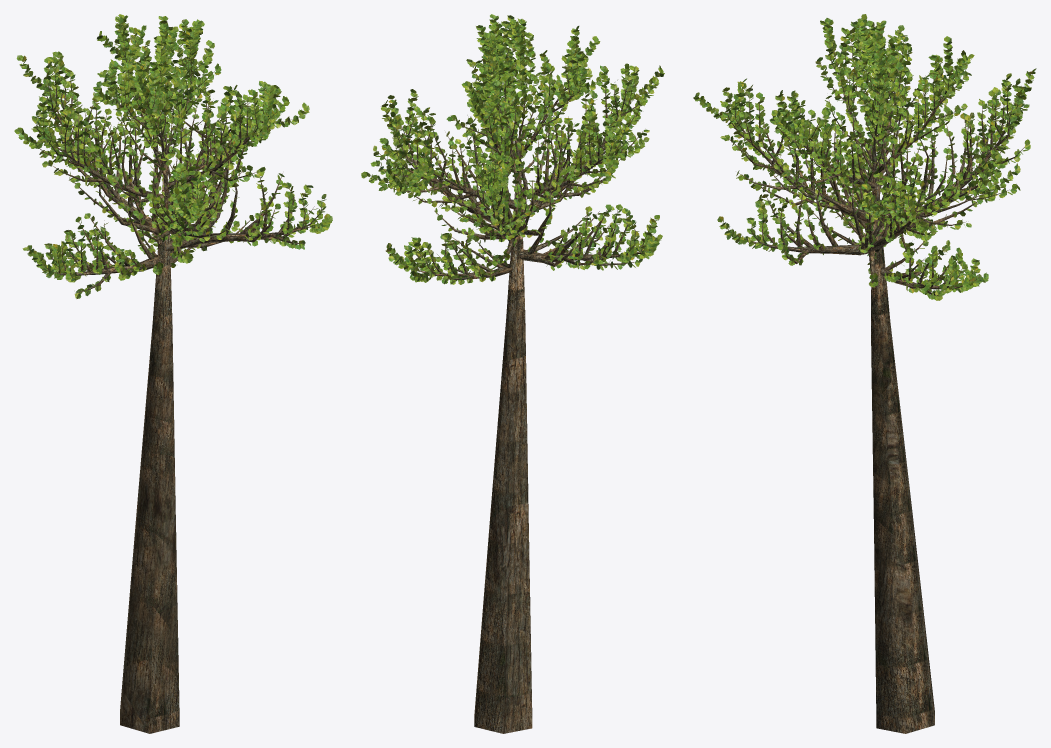
Rendered from tree.fbx.
3 views of the same model, side by side, from view 1: azimuth 30°, elevation 25°; view 2: azimuth 150°, elevation 25°; view 3: azimuth 270°, elevation 25° (orthographic). The views are drawn at different scales.
Visible parts, largest first — view 1: leaves, tree; view 2: leaves, tree; view 3: leaves, tree.
Part boxes in pixels (x1,y1,x2,y2): leaves: (14,14,332,298); tree: (24,24,323,733); leaves: (361,14,664,284); tree: (372,31,653,733); leaves: (693,14,1036,300); tree: (705,26,1027,733).
Bounding box in the file's own units: 22.09 × 53.25 × 23.7.
2 materials, 2 textured.
